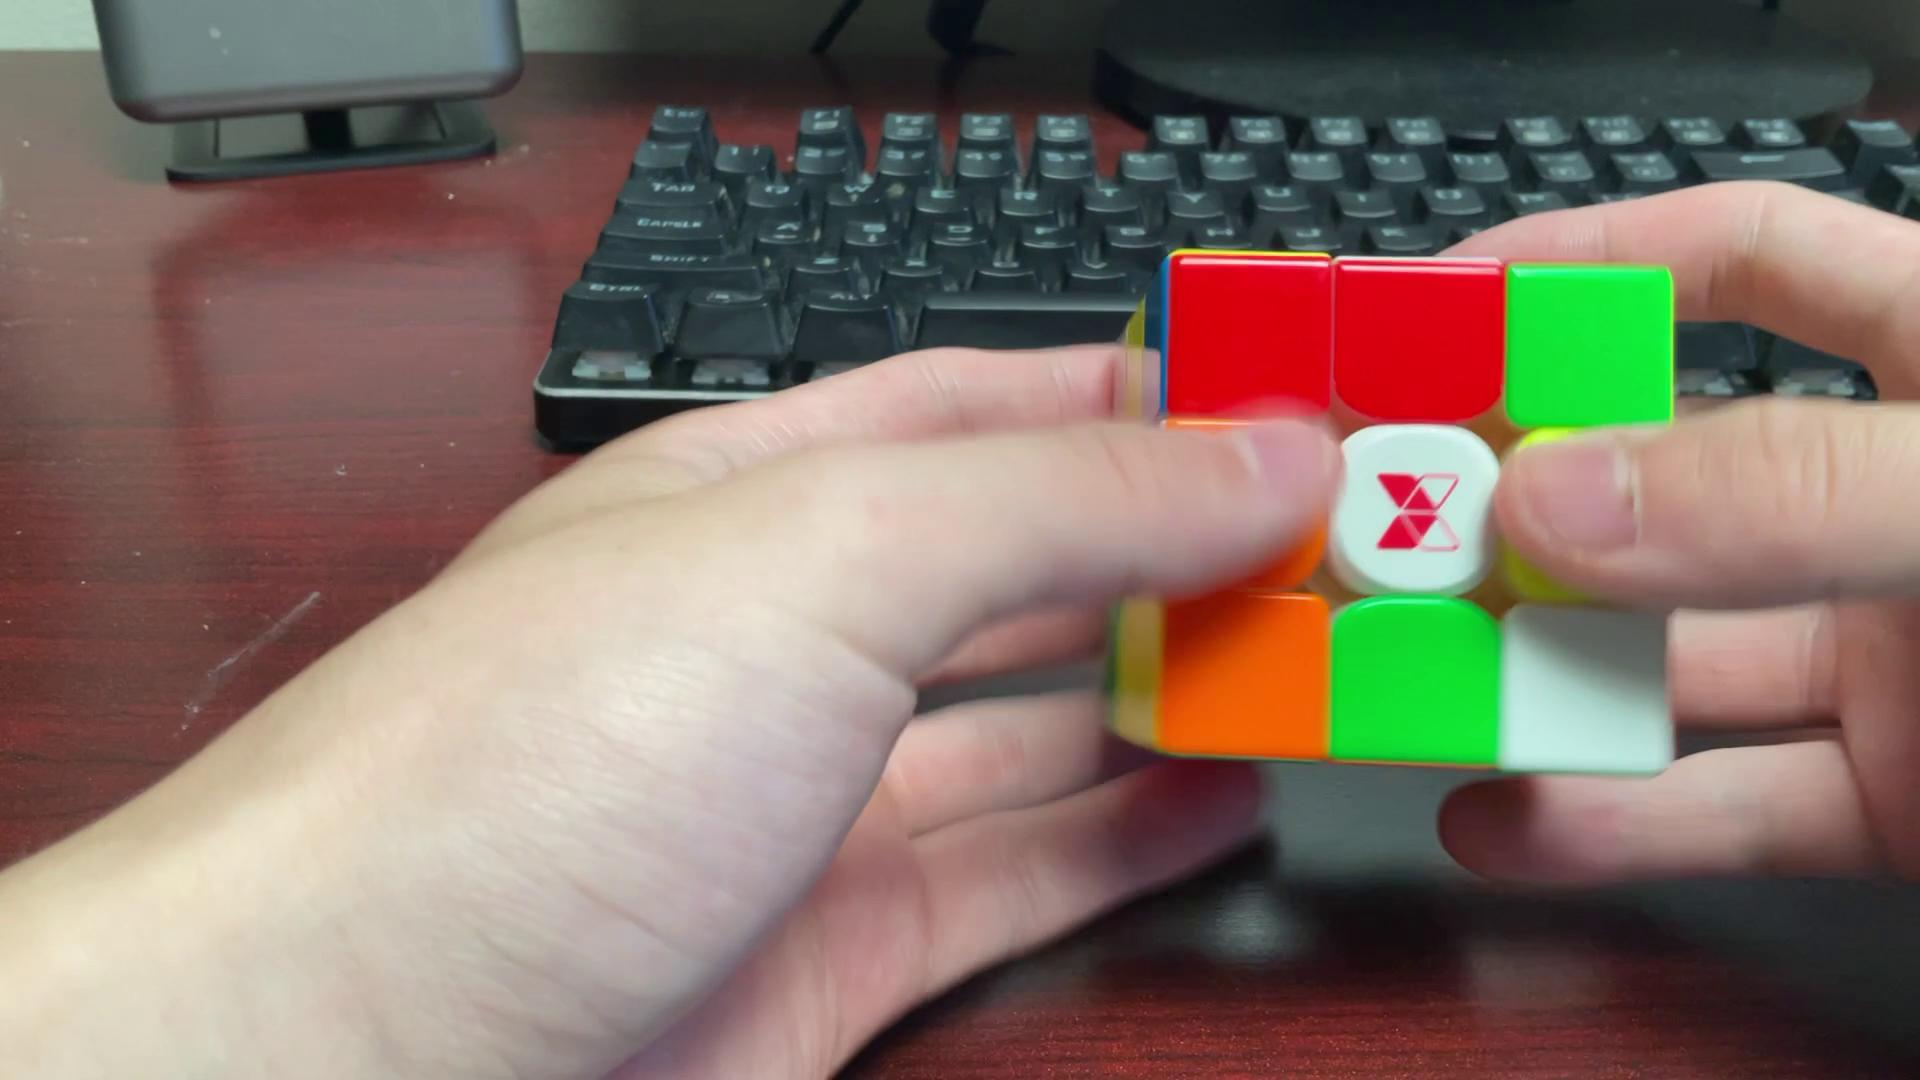Rubiks-Cube: (1104, 240, 1695, 783)
